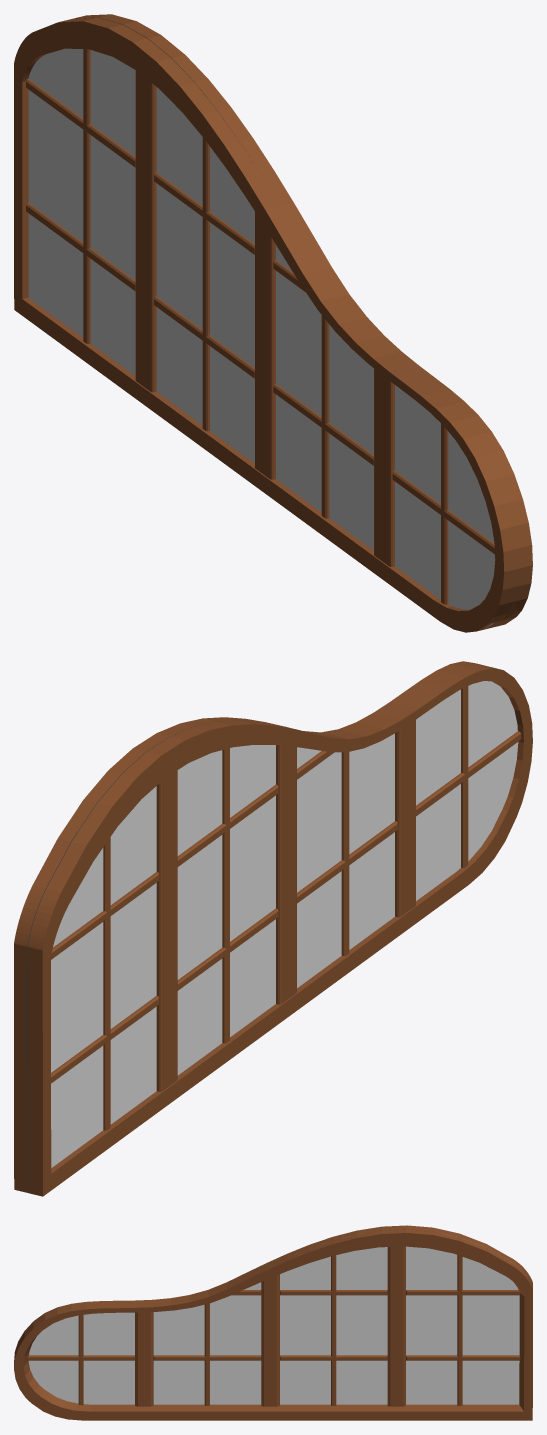
File: KitchenWindowWave.fbx
The picture shows the model from 3 angles, top to bottom: view 1: azimuth 30°, elevation 25°; view 2: azimuth 150°, elevation 25°; view 3: azimuth 270°, elevation 25°; orthographic projection. The views are drawn at different scales.
Parts seen in each view (by area): view 1: KitchenWindowWave; view 2: KitchenWindowWave; view 3: KitchenWindowWave.
Part boxes in pixels (x1,y1,x2,y2): KitchenWindowWave: (14,14,532,632); KitchenWindowWave: (14,661,532,1196); KitchenWindowWave: (14,1225,532,1420).
Bounding box in the file's own units: 17.55 × 207 × 518.
